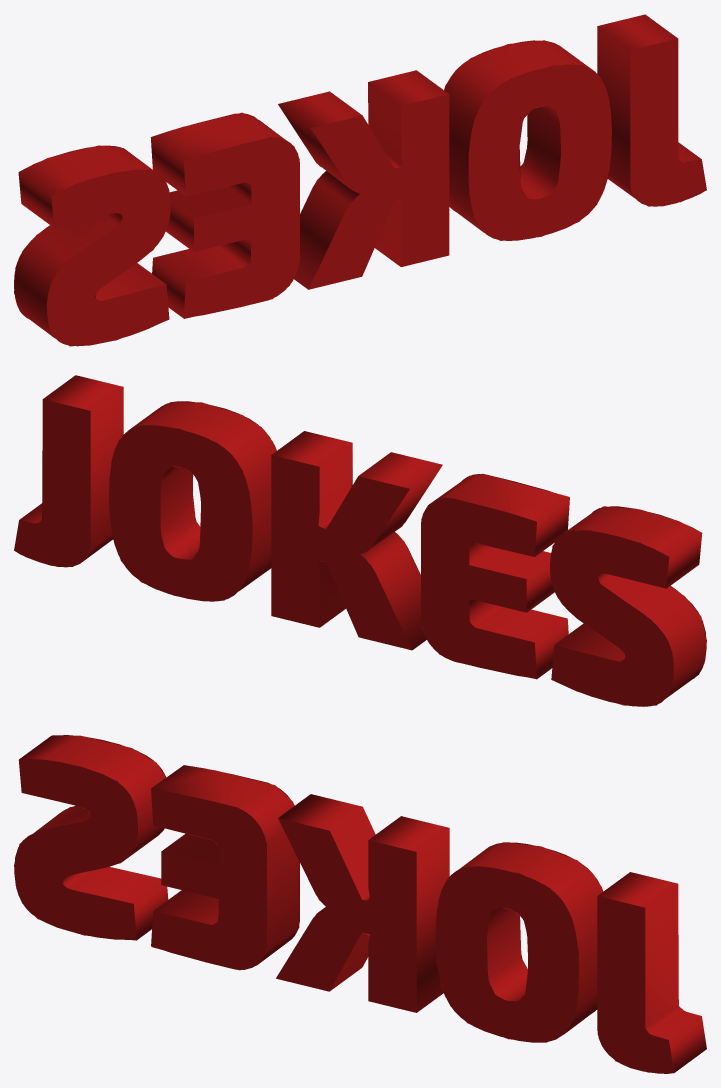
Rendered from jokes.fbx.
The picture shows the model from 3 angles, top to bottom: view 1: azimuth 30°, elevation 25°; view 2: azimuth 150°, elevation 25°; view 3: azimuth 330°, elevation 25°; orthographic projection.
Visible parts, largest first — view 1: Text; view 2: Text; view 3: Text.
Boxes of the visible parts, x1,y1,x2,y2 form: Text: [14, 14, 706, 346]; Text: [14, 375, 706, 706]; Text: [14, 735, 706, 1073].
Bounding box in the file's own units: 9.27 × 2.26 × 0.8.
